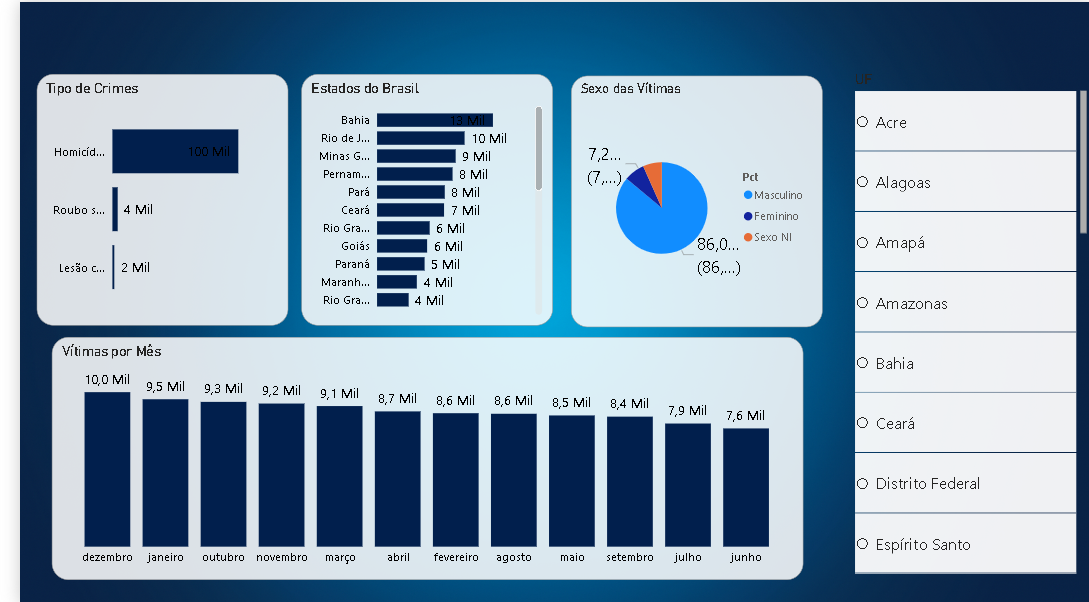

The dashboard page shown, as its layout file describes it:
{"tool":"powerbi","page":{"name":"Página 1","canvas":[1280,720],"ordinal":0},"visuals":[{"type":"barChart","title":"Tipo de Crimes","fields":{"Category":["BaseVítimas.Tipo Crime"],"Y":["Sum(BaseVítimas.Vítimas)"]},"box":[20,86.7,300,300],"z":0},{"type":"pieChart","title":"Sexo das Vítimas","fields":{"Y":["Tabela.% Sexo das vítimas (respeita seleção)"],"Category":["BaseVítimas.Sexo da Vítima"]},"box":[657.1,87.1,300,300],"z":1000},{"type":"barChart","title":"Estados do Brasil","fields":{"Y":["Sum(BaseVítimas.Vítimas)"],"Category":["BaseVítimas.UF"]},"box":[336.7,86.7,300,300],"z":2000},{"type":"columnChart","title":"Vítimas por Mês","fields":{"Y":["Sum(BaseVítimas.Vítimas)"],"Category":["BaseVítimas.Mês"]},"box":[37.5,400,897.5,290],"z":3000},{"type":"listSlicer","fields":{"Values":["BaseVítimas.UF"]},"box":[992.9,82.9,287.1,607.1],"z":4000}]}

Visuals, with their boxes in screenshot pixels (x1, y1, x2, y2), scaled from the page's 1280x720 canvas onto the 1089x602 screenshot:
"Tipo de Crimes" barChart: rect(17, 72, 272, 323)
"Sexo das Vítimas" pieChart: rect(559, 73, 814, 324)
"Estados do Brasil" barChart: rect(286, 72, 542, 323)
"Vítimas por Mês" columnChart: rect(32, 334, 795, 577)
listSlicer - BaseVítimas.UF: rect(845, 69, 1088, 577)
